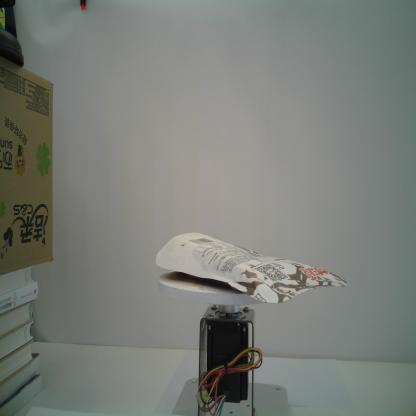Dried Fruit: (154, 229, 348, 305)
